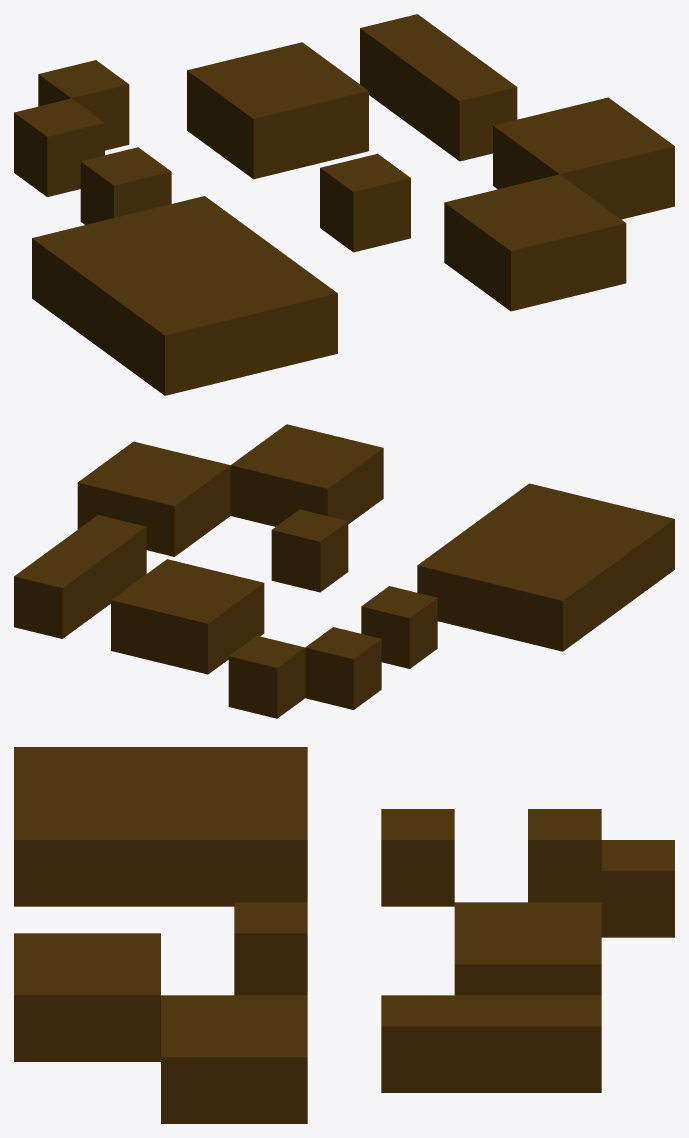
The model's file is rock.obj.
3 views of the same model, one above another, from view 1: azimuth 30°, elevation 25°; view 2: azimuth 150°, elevation 25°; view 3: azimuth 270°, elevation 25° (orthographic). The views are drawn at different scales.
Visible parts, largest first — view 1: grass; view 2: grass; view 3: grass.
Part boxes in pixels (box(x1,y1,x2,y2)): grass: box(14, 14, 674, 395); grass: box(14, 424, 674, 718); grass: box(14, 747, 674, 1123).
Bounding box in the file's own units: 1 × 0.1 × 0.9.
1 material, 1 textured.
